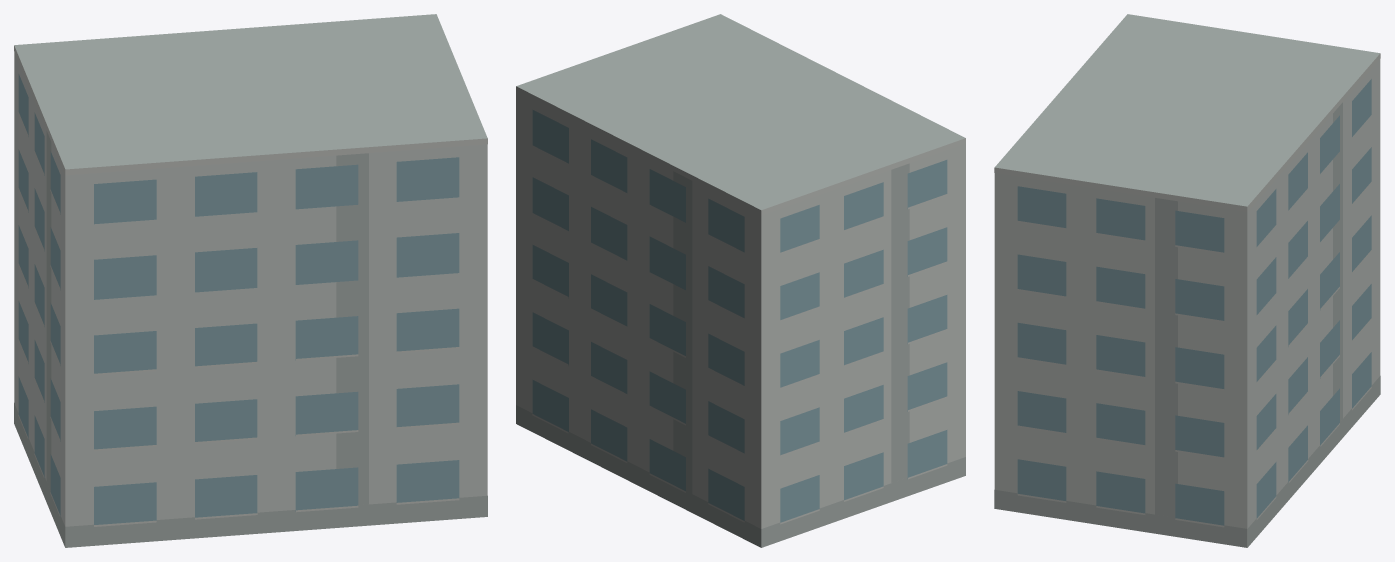
Rendered from residential-e7b9b246-bfd1-44bc-92e6-faf55ec43677.glb.
The picture shows the model from 3 angles, left to right: view 1: azimuth 30°, elevation 25°; view 2: azimuth 150°, elevation 25°; view 3: azimuth 270°, elevation 25°; orthographic projection. The views are drawn at different scales.
Visible parts, largest first — view 1: residential-e7b9b246-bfd1-44bc-92e6-faf55ec43677.tmp; view 2: residential-e7b9b246-bfd1-44bc-92e6-faf55ec43677.tmp; view 3: residential-e7b9b246-bfd1-44bc-92e6-faf55ec43677.tmp.
Part boxes in pixels (x1=…): residential-e7b9b246-bfd1-44bc-92e6-faf55ec43677.tmp: x1=14, y1=14, x2=487, y2=547; residential-e7b9b246-bfd1-44bc-92e6-faf55ec43677.tmp: x1=516, y1=14, x2=965, y2=547; residential-e7b9b246-bfd1-44bc-92e6-faf55ec43677.tmp: x1=994, y1=14, x2=1380, y2=547.
Bounding box in the file's own units: 18.47 × 15.25 × 15.64.
